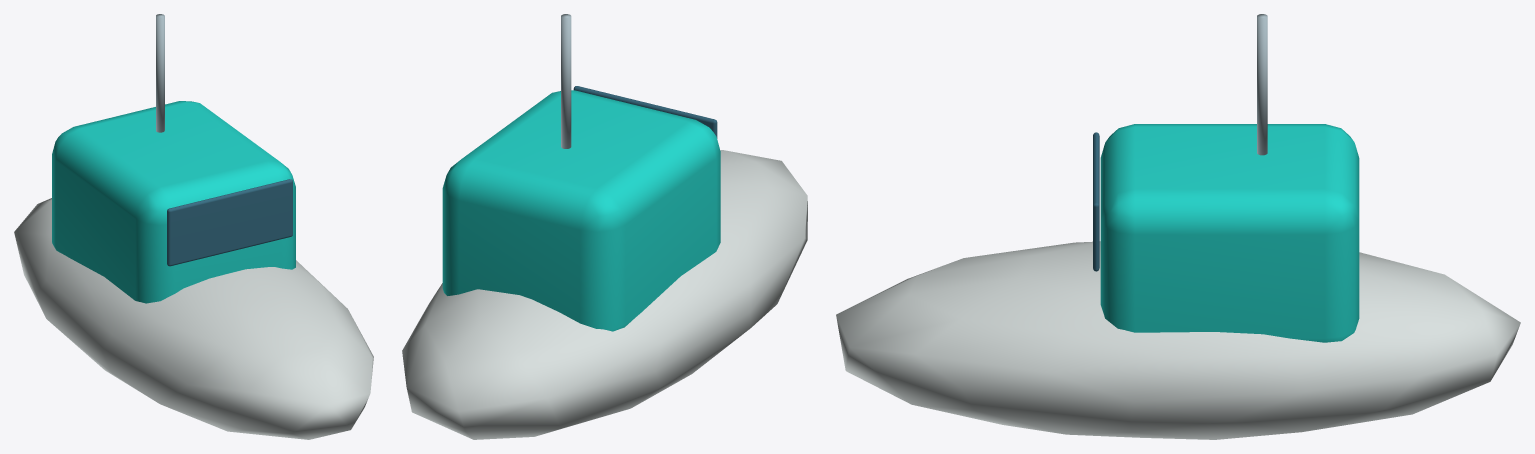
File: Harbor_boat_LOD2.glb
The picture shows the model from 3 angles, left to right: view 1: azimuth 30°, elevation 25°; view 2: azimuth 150°, elevation 25°; view 3: azimuth 270°, elevation 25°; orthographic projection. The views are drawn at different scales.
Parts seen in each view (by area): view 1: Boat hull, Cabin, Windshield, Mast; view 2: Cabin, Boat hull, Mast, Windshield; view 3: Boat hull, Cabin, Mast, Windshield.
Boxes of the visible parts, <box> form: Boat hull: <box>14,198,373,439</box>; Cabin: <box>52,101,295,303</box>; Windshield: <box>167,179,292,266</box>; Mast: <box>156,14,164,132</box>; Cabin: <box>442,90,720,331</box>; Boat hull: <box>402,150,807,439</box>; Mast: <box>561,14,571,148</box>; Windshield: <box>573,86,717,138</box>; Boat hull: <box>836,241,1520,439</box>; Cabin: <box>1100,124,1359,342</box>; Mast: <box>1257,14,1267,155</box>; Windshield: <box>1093,132,1099,271</box>.
Size of the model in its own units: 1.41 by 2.05 by 3.18.
